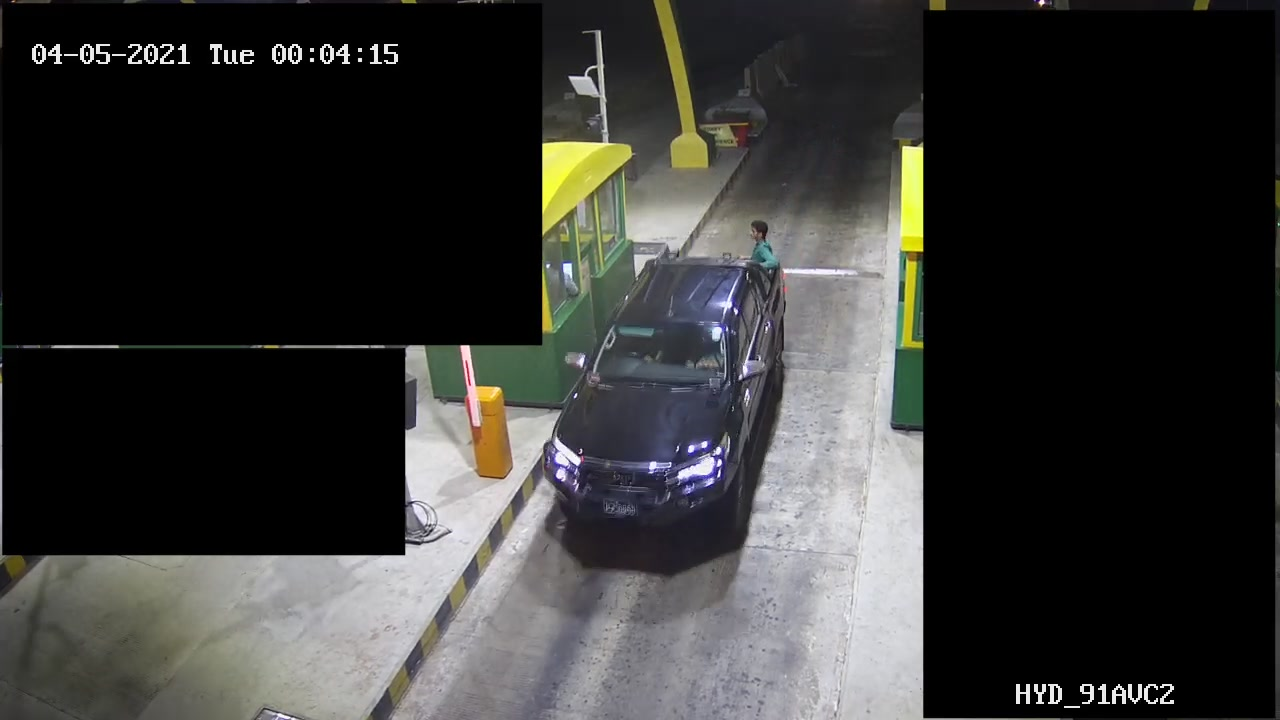F1: (529, 211, 805, 559)
